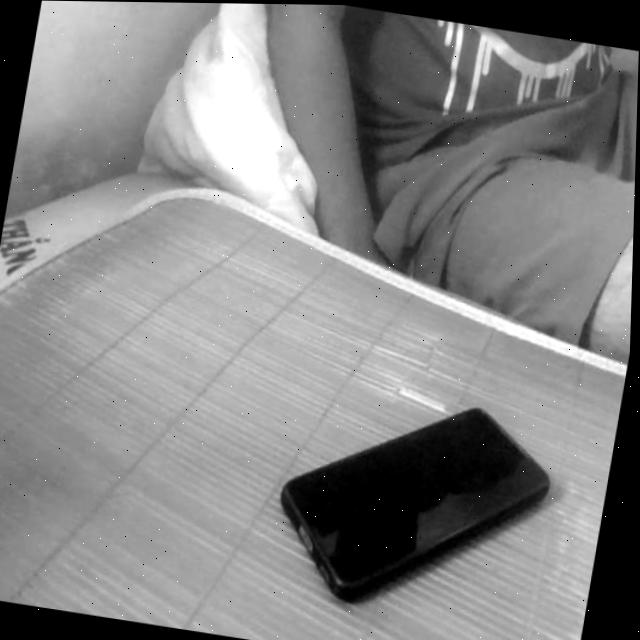phone: (248, 338, 577, 640)
